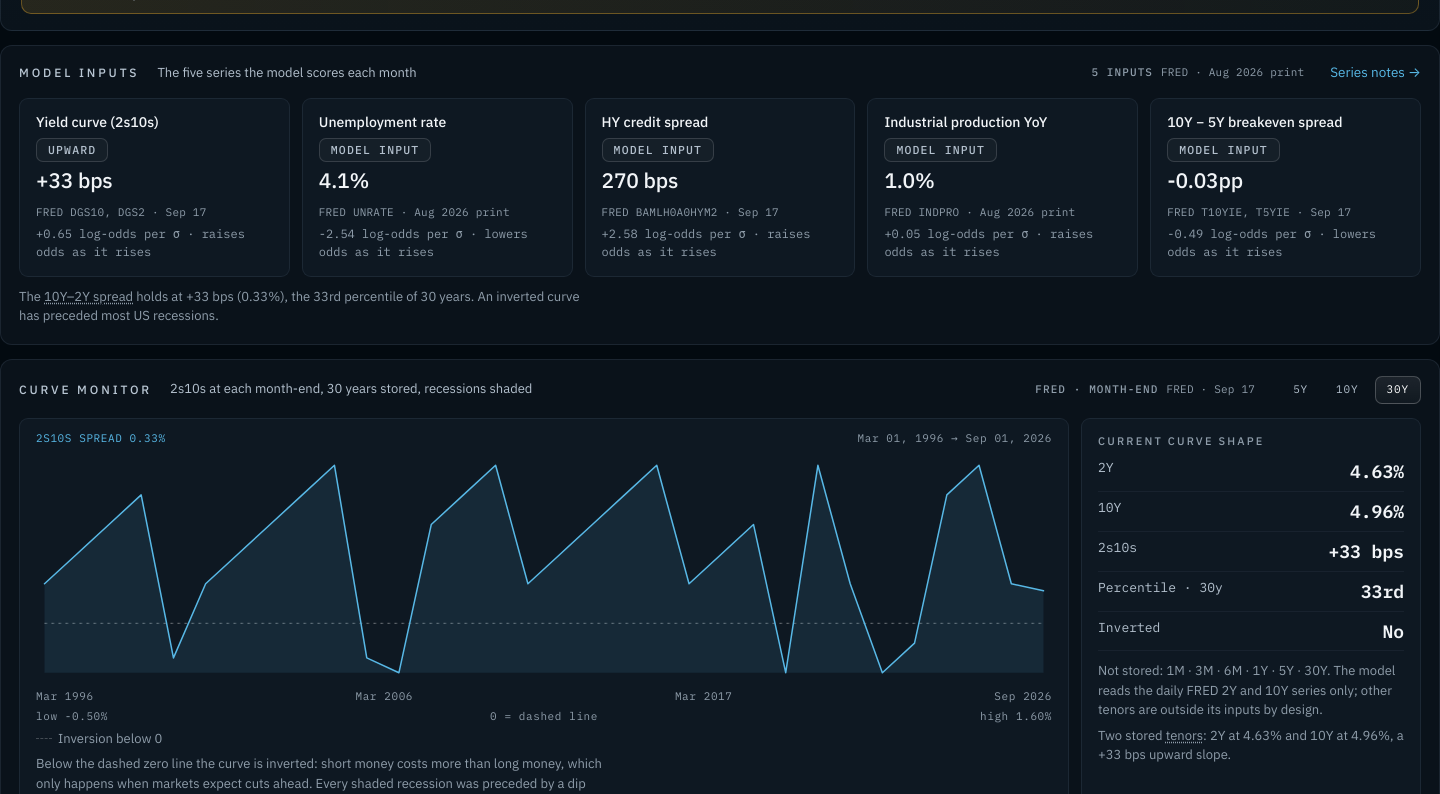
Test: RecessionScreen (checklist 07 E.1) › 5Y and 10Y slice the served curve by date and shorten the legend's range; 30Y restores the series start
The width and height of the screenshot is (1440, 794).
(page scrolled)
Click the button "5Y" at (1301, 390), box [1281,376,1320,404]
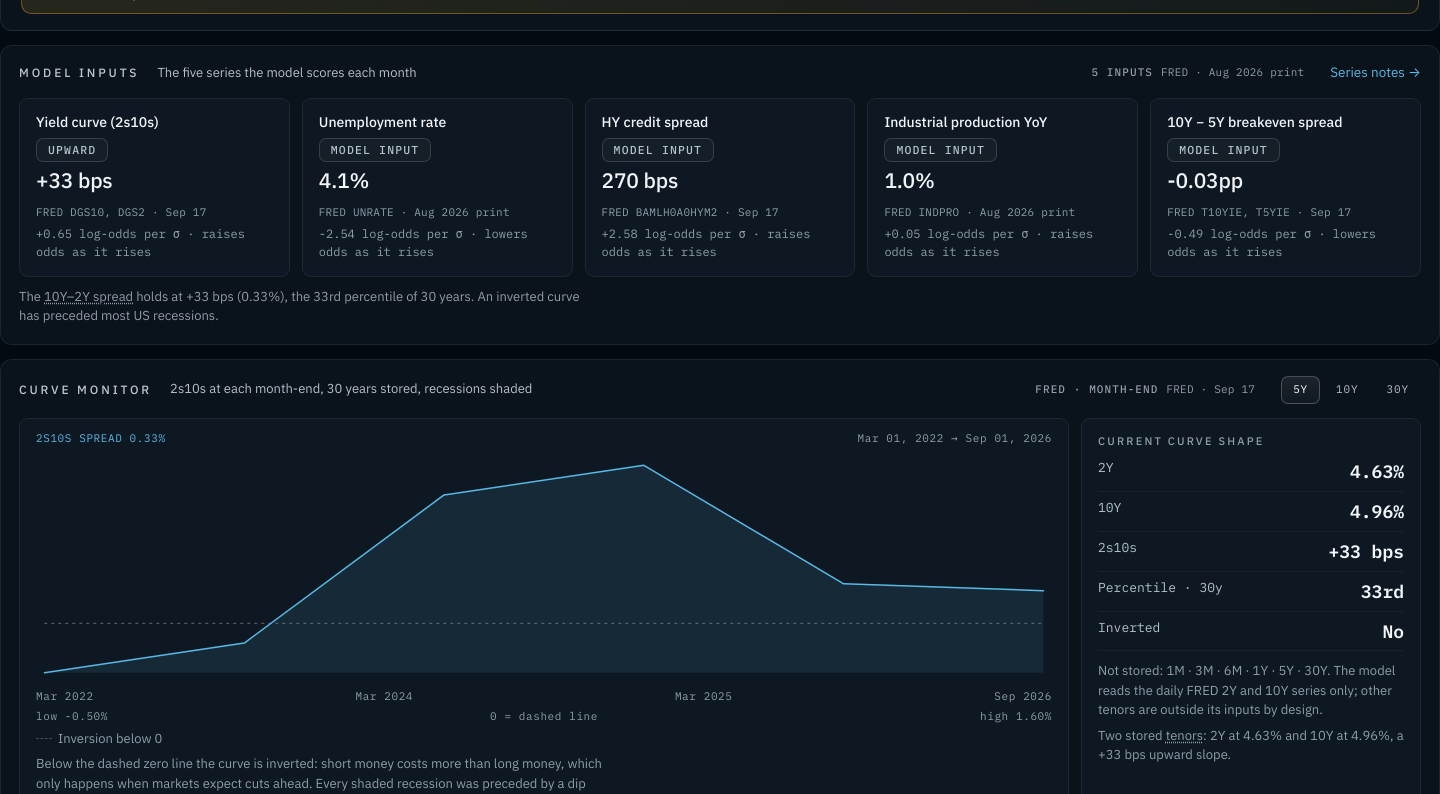
Result: the text "Mar 01, 2022 → Sep 01, 2026" is shown at [858,430,1052,448]
Click the button "10Y" at (1347, 390), box [1324,376,1371,404]
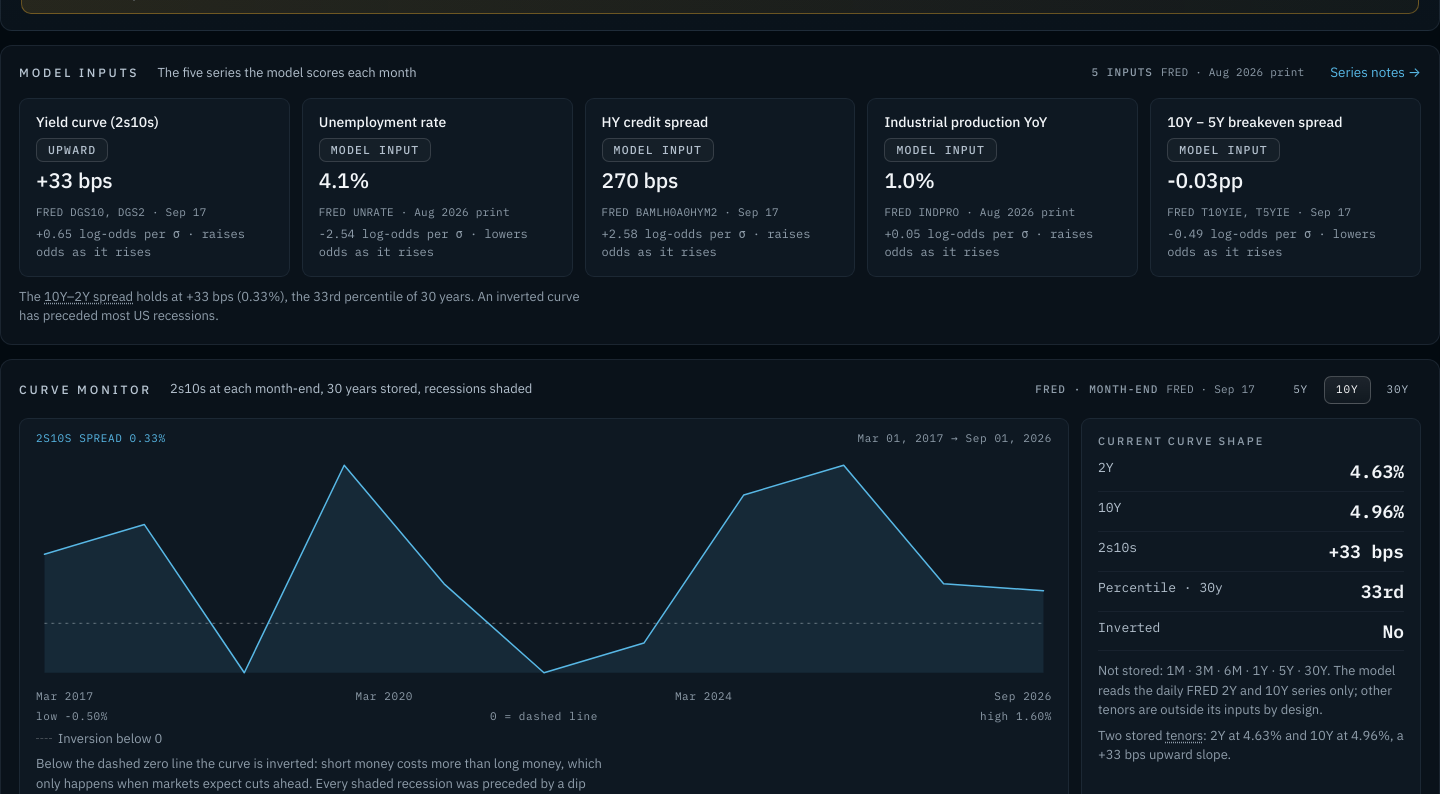
Result: the text "Mar 01, 2017 → Sep 01, 2026" is shown at [858,430,1052,448]
Click the button "30Y" at (1398, 390), box [1374,376,1421,404]
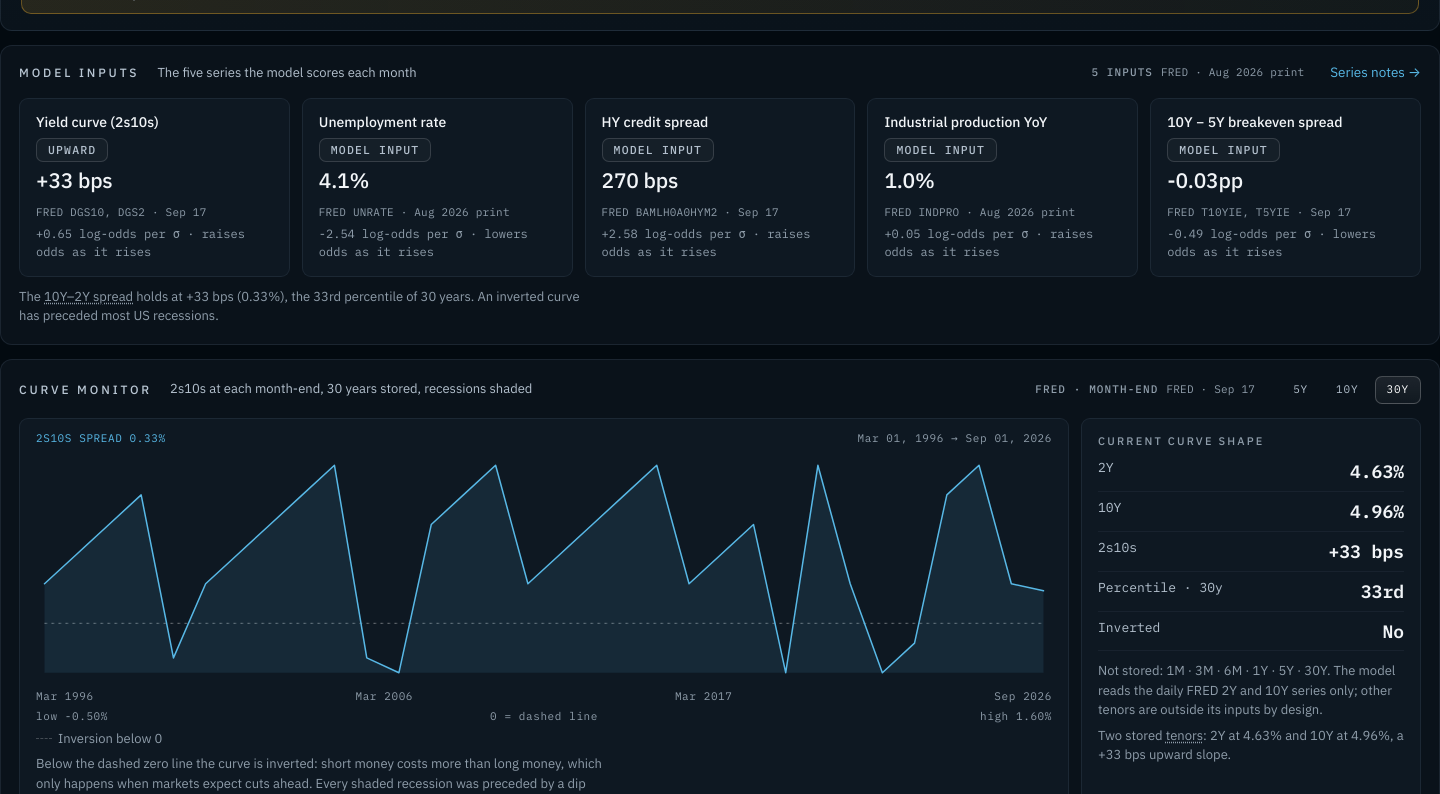
Result: the text "Mar 01, 1996 → Sep 01, 2026" is shown at [858,430,1052,448]
